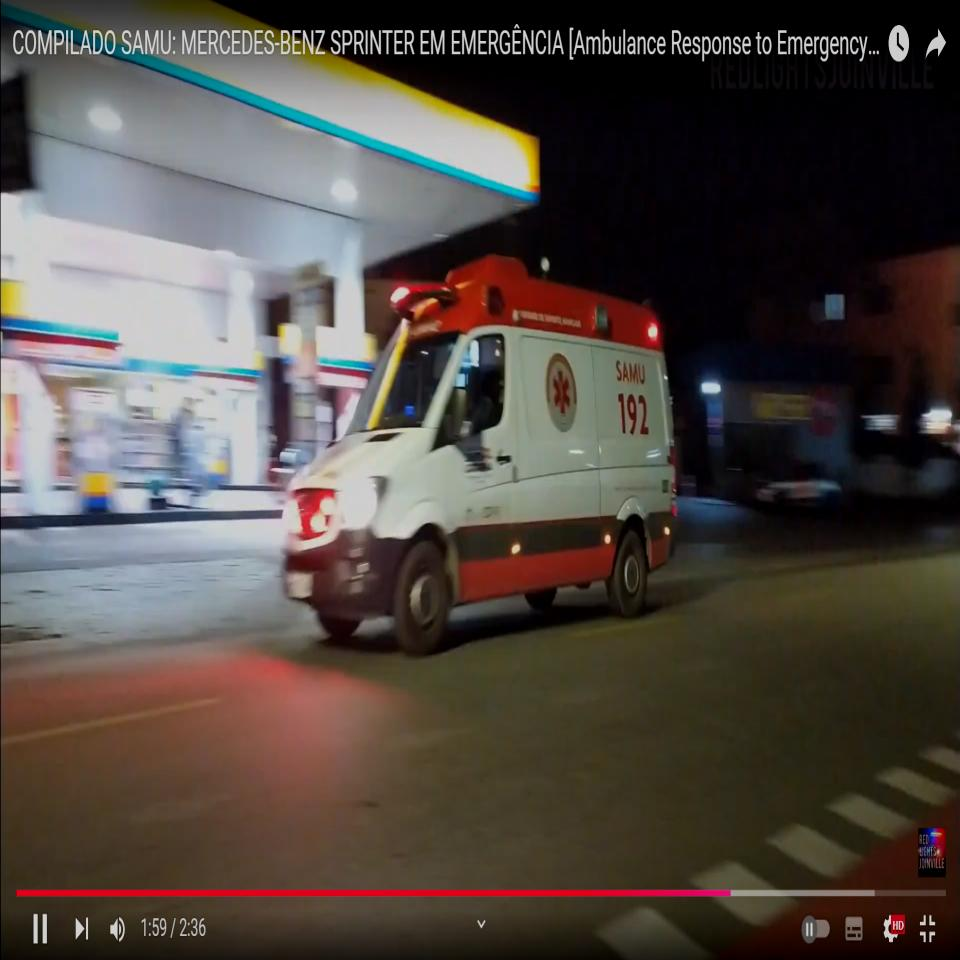ambulancia: (284, 251, 680, 654)
